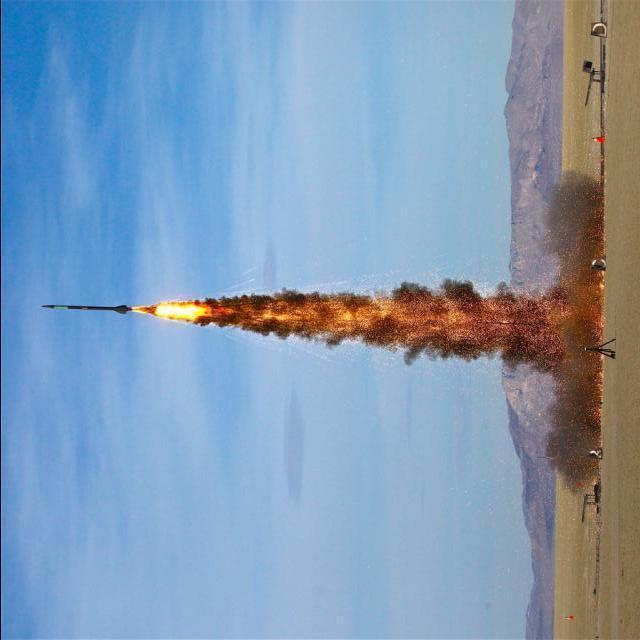missile: (34, 298, 132, 317)
